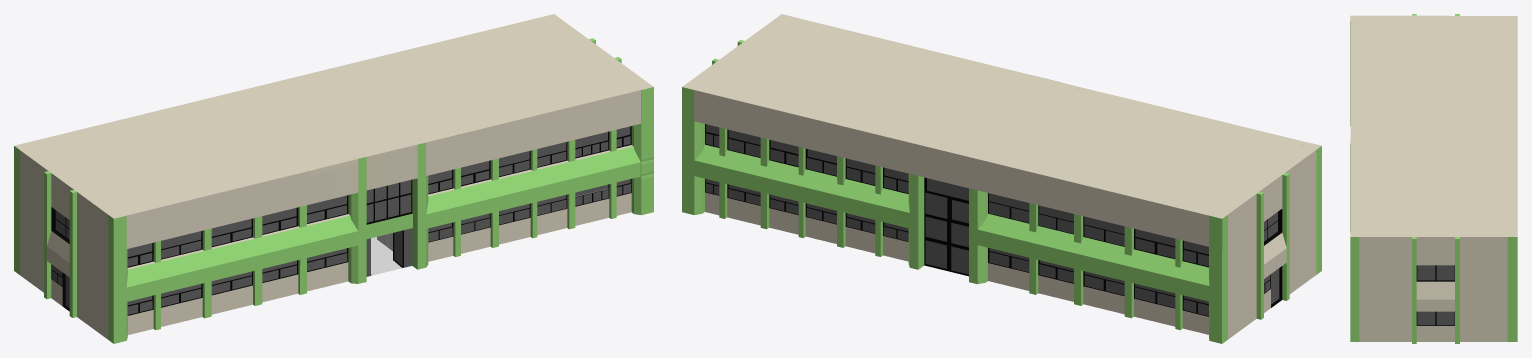
Rendered from edificioB.glb.
The picture shows the model from 3 angles, left to right: view 1: azimuth 30°, elevation 25°; view 2: azimuth 150°, elevation 25°; view 3: azimuth 270°, elevation 25°; orthographic projection. The views are drawn at different scales.
Parts seen in each view (by area): view 1: edificio; view 2: edificio; view 3: edificio.
Part boxes in pixels (x1,y1,x2,y2): edificio: [14, 14, 653, 343]; edificio: [682, 14, 1321, 343]; edificio: [1350, 14, 1517, 343].
Size of the model in its own units: 203 by 44.34 by 64.
